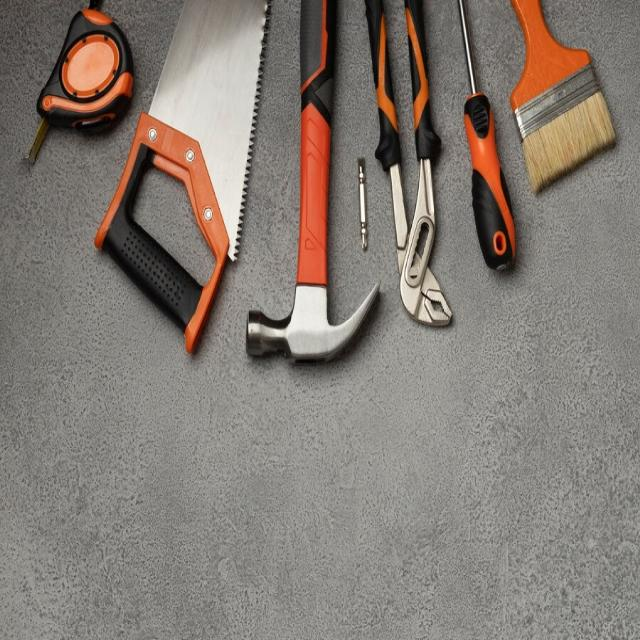Screwdriver: (460, 0, 515, 270)
